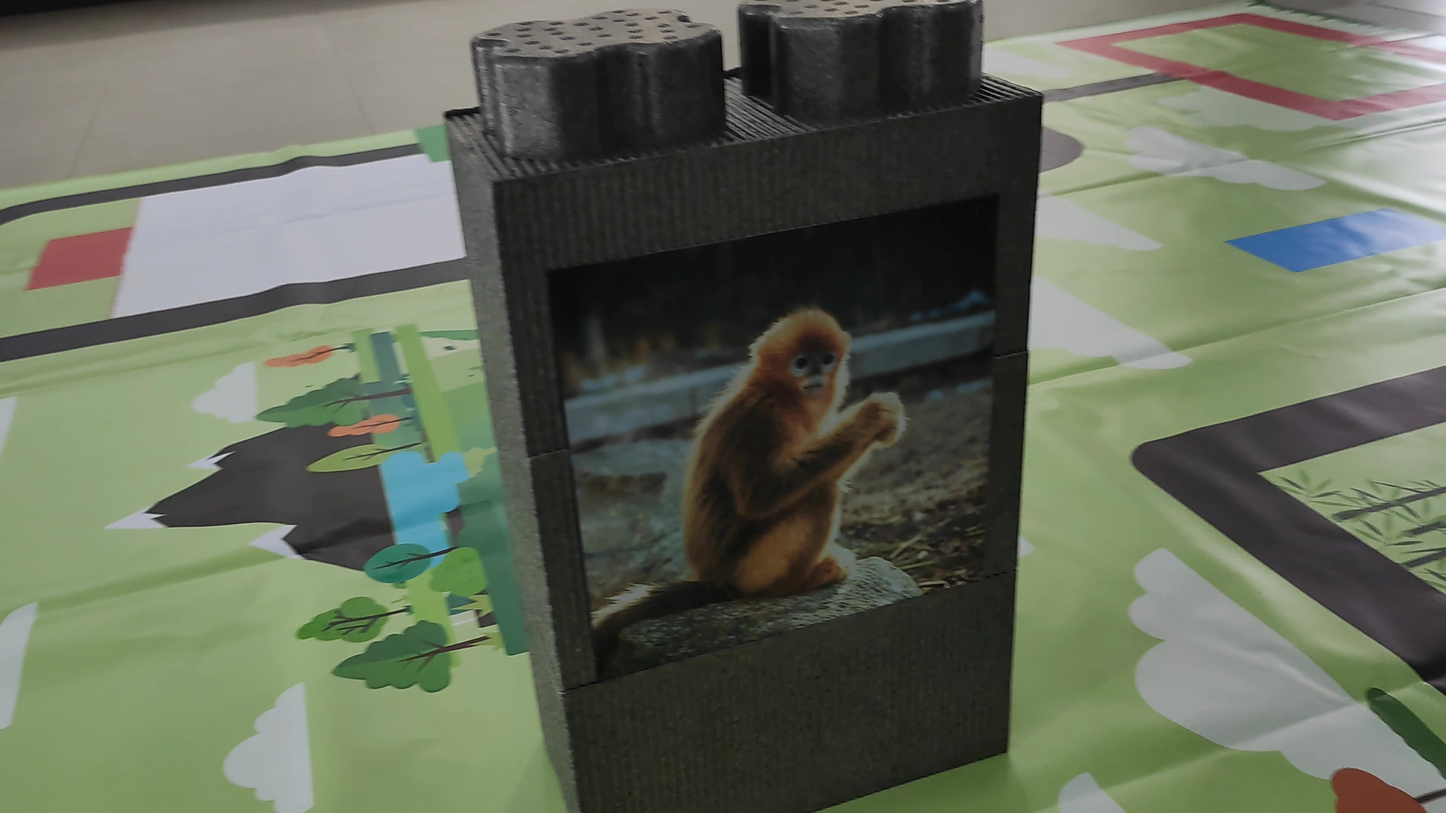monkey: (618, 260, 958, 603)
